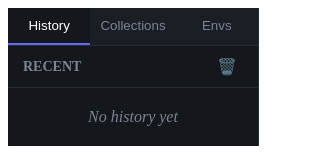
Test: FinalGapCoverage › Sidebar › should alert if environment import fails (invalid JSON)
The width and height of the screenshot is (320, 163).
Click the button "Envs": (217, 26) x1=176 y1=8 x2=258 y2=45
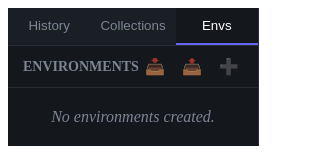
expect the element showing "📥 📤 ➕" is shown: met, box x1=139 y1=56 x2=245 y2=77
